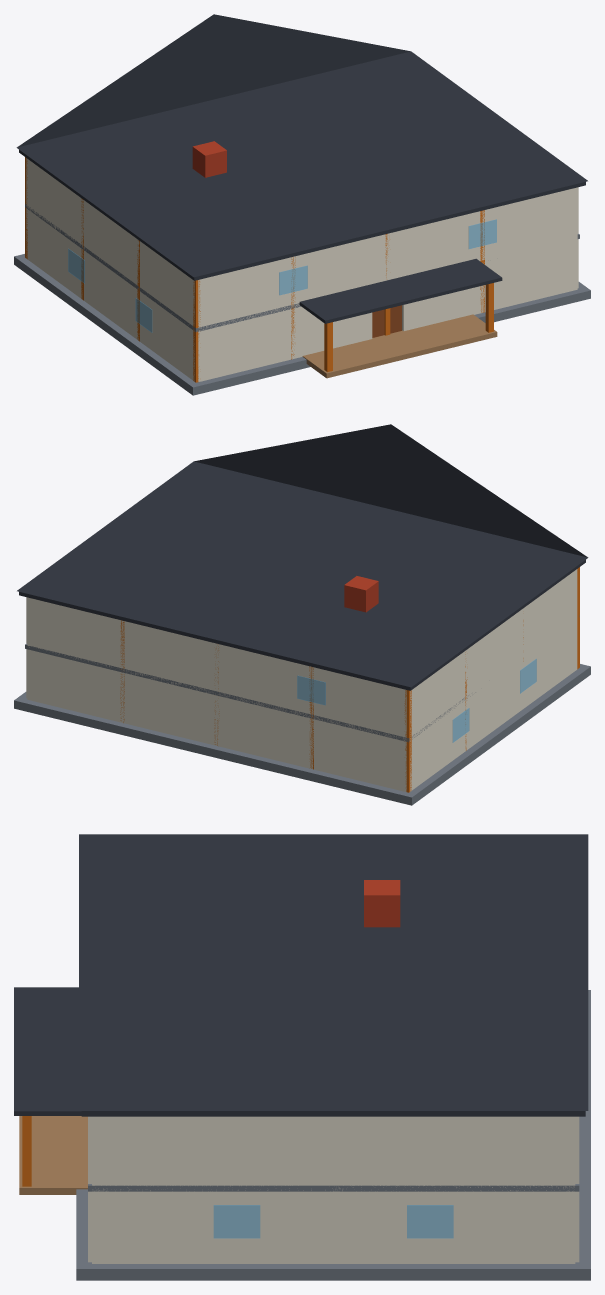
File: blueprint_3d_proj1_450.obj
3 views of the same model, one above another, from view 1: azimuth 30°, elevation 25°; view 2: azimuth 150°, elevation 25°; view 3: azimuth 270°, elevation 25° (orthographic). The views are drawn at different scales.
Visible parts, largest first — view 1: Roof_Gable_Pitch, Ext_Wall_South_2F, Ext_Wall_West, Ext_Wall_West_2F, Ext_Wall_South_Left, Ext_Wall_South_Right, Foundation_Slab, Porch_Shed_Roof, Porch_Deck, Roof_Cap_Base, Second_Floor_Slab, Masonry_Chimney (+4 smaller); view 2: Roof_Gable_Pitch, Ext_Wall_North, Ext_Wall_North_2F, Ext_Wall_West, Ext_Wall_West_2F, Foundation_Slab, Roof_Cap_Base, Second_Floor_Slab, Masonry_Chimney, Window_2F_North_1, Steel_Column_1; view 3: Roof_Gable_Pitch, Ext_Wall_East, Ext_Wall_East_2F, Foundation_Slab, Porch_Shed_Roof, Porch_Deck, Second_Floor_Slab, Roof_Cap_Base, Masonry_Chimney, Window_East_2, Window_East_1, Steel_Column_Porch_R.
Boxes of the visible parts, x1,y1,x2,y2 form: Roof_Gable_Pitch: (16, 14, 587, 277); Ext_Wall_South_2F: (198, 187, 577, 328); Ext_Wall_West: (26, 207, 194, 380); Ext_Wall_West_2F: (26, 158, 194, 325); Ext_Wall_South_Left: (198, 305, 372, 381); Ext_Wall_South_Right: (402, 237, 577, 331); Foundation_Slab: (14, 254, 590, 395); Porch_Shed_Roof: (299, 258, 502, 323); Porch_Deck: (302, 314, 497, 378); Roof_Cap_Base: (19, 150, 585, 280); Second_Floor_Slab: (25, 203, 579, 332); Masonry_Chimney: (192, 141, 226, 177); Roof_Gable_Pitch: (17, 424, 588, 687); Ext_Wall_North: (27, 649, 406, 791); Ext_Wall_North_2F: (27, 597, 406, 739); Ext_Wall_West: (410, 617, 577, 791); Ext_Wall_West_2F: (410, 569, 577, 738); Foundation_Slab: (14, 664, 590, 805); Roof_Cap_Base: (19, 560, 585, 690); Second_Floor_Slab: (25, 615, 579, 742); Masonry_Chimney: (344, 576, 378, 612); Window_2F_North_1: (297, 675, 325, 705); Steel_Column_1: (404, 690, 411, 792); Roof_Gable_Pitch: (79, 834, 588, 1110); Ext_Wall_East: (92, 1189, 575, 1263); Ext_Wall_East_2F: (92, 1116, 575, 1188); Foundation_Slab: (76, 990, 590, 1280); Porch_Shed_Roof: (14, 987, 81, 1115); Porch_Deck: (19, 1116, 87, 1194); Second_Floor_Slab: (88, 1184, 579, 1191); Roof_Cap_Base: (81, 1111, 585, 1116); Masonry_Chimney: (364, 880, 400, 927); Window_East_2: (213, 1205, 260, 1238); Window_East_1: (407, 1205, 453, 1238); Steel_Column_Porch_R: (22, 1116, 31, 1186).
Size of the model in its own units: 25.4 by 12.81 by 22.2.
